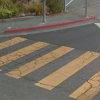Crosswalk: (5, 34, 91, 95)
